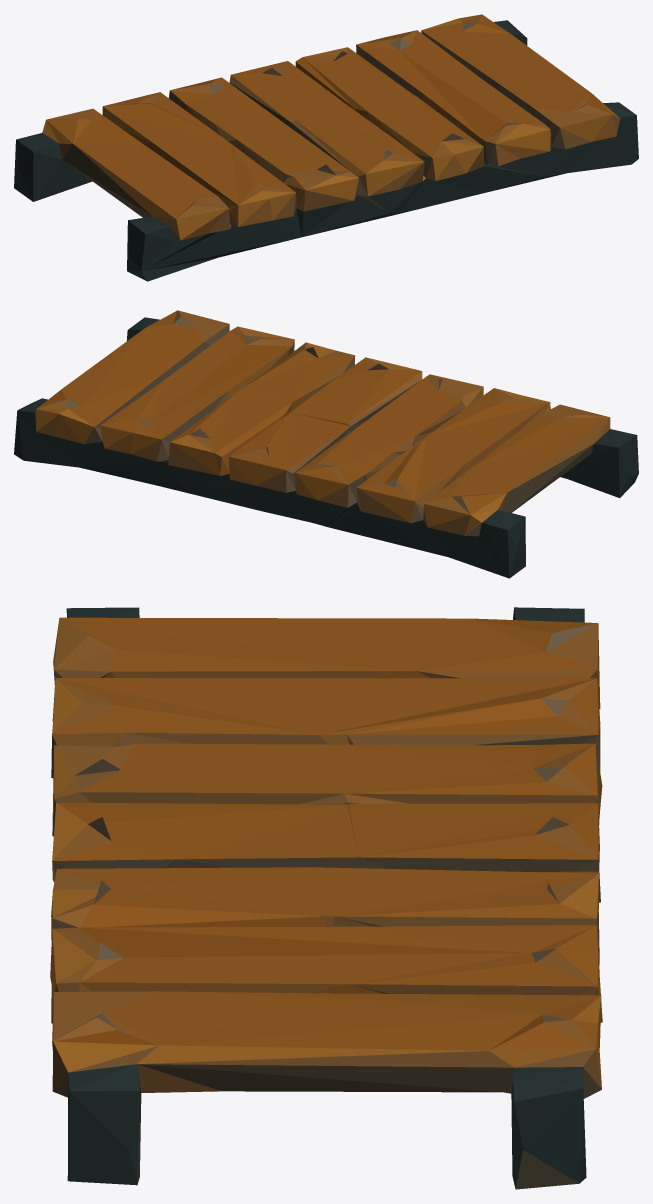
The model's file is bridge-deck.glb.
3 views of the same model, one above another, from view 1: azimuth 30°, elevation 25°; view 2: azimuth 150°, elevation 25°; view 3: azimuth 270°, elevation 25° (orthographic). The views are drawn at different scales.
Parts seen in each view (by area): view 1: bridge-deck; view 2: bridge-deck; view 3: bridge-deck.
Part boxes in pixels (x1=…): bridge-deck: x1=14, y1=14, x2=638, y2=281; bridge-deck: x1=14, y1=310, x2=638, y2=578; bridge-deck: x1=50, y1=607, x2=602, y2=1189.
Bounding box in the file's own units: 4.79 × 0.6201 × 2.3.
